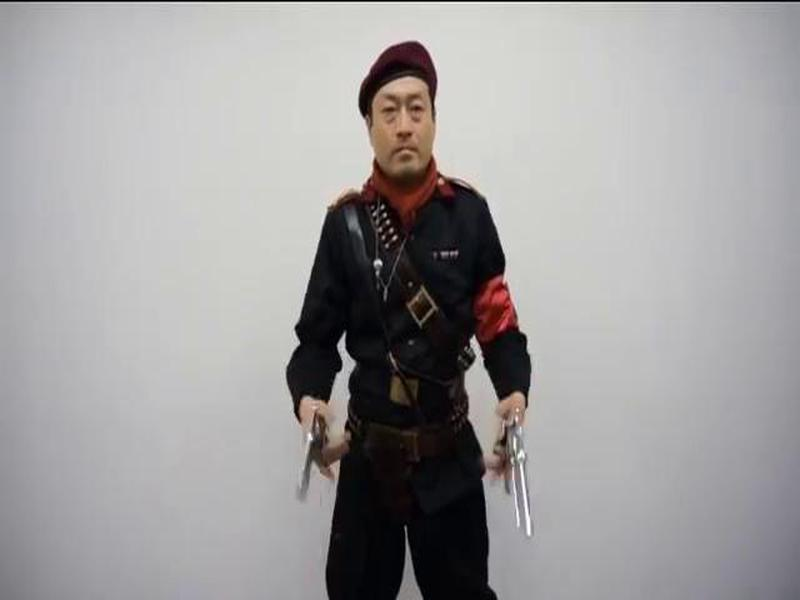Revolver: (489, 405, 556, 543), (289, 400, 348, 509)
